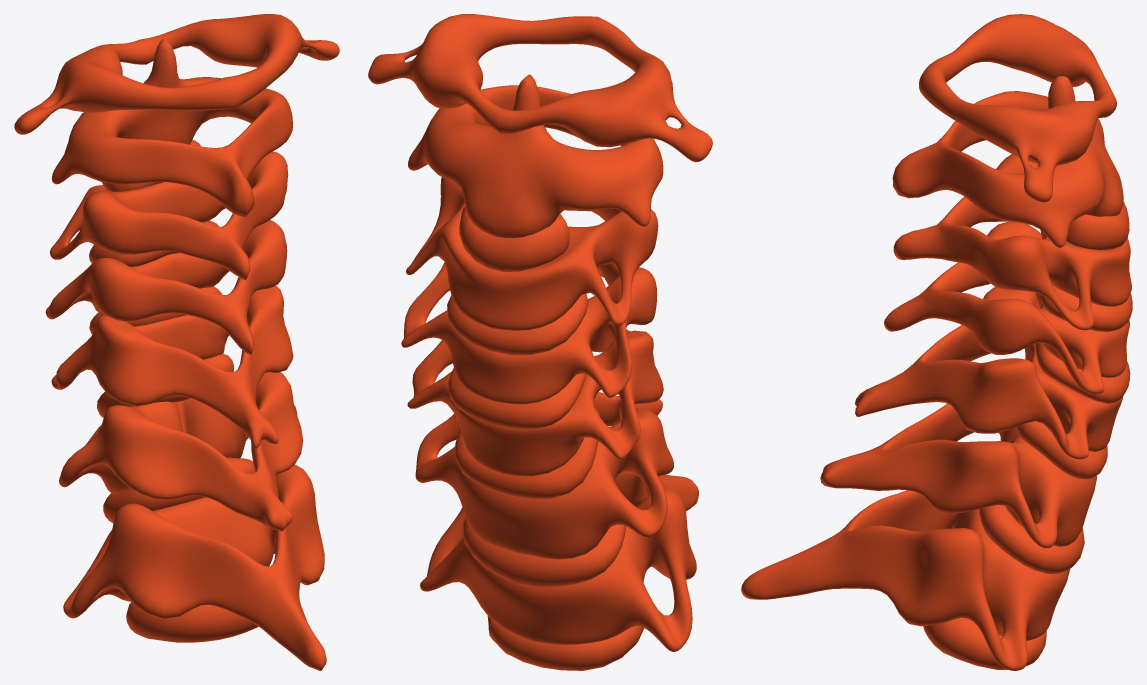
The model's file is CervicalSpine.fbx.
3 views of the same model, side by side, from view 1: azimuth 30°, elevation 25°; view 2: azimuth 150°, elevation 25°; view 3: azimuth 270°, elevation 25° (orthographic). The views are drawn at different scales.
Parts seen in each view (by area): view 1: CervicalSpine; view 2: CervicalSpine; view 3: CervicalSpine.
Boxes of the visible parts, x1,y1,x2,y2 form: CervicalSpine: (14, 14, 339, 670); CervicalSpine: (368, 14, 712, 670); CervicalSpine: (741, 14, 1132, 670).
Bounding box in the file's own units: 329 × 575 × 346.
